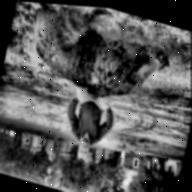boar: (19, 1, 191, 127)
